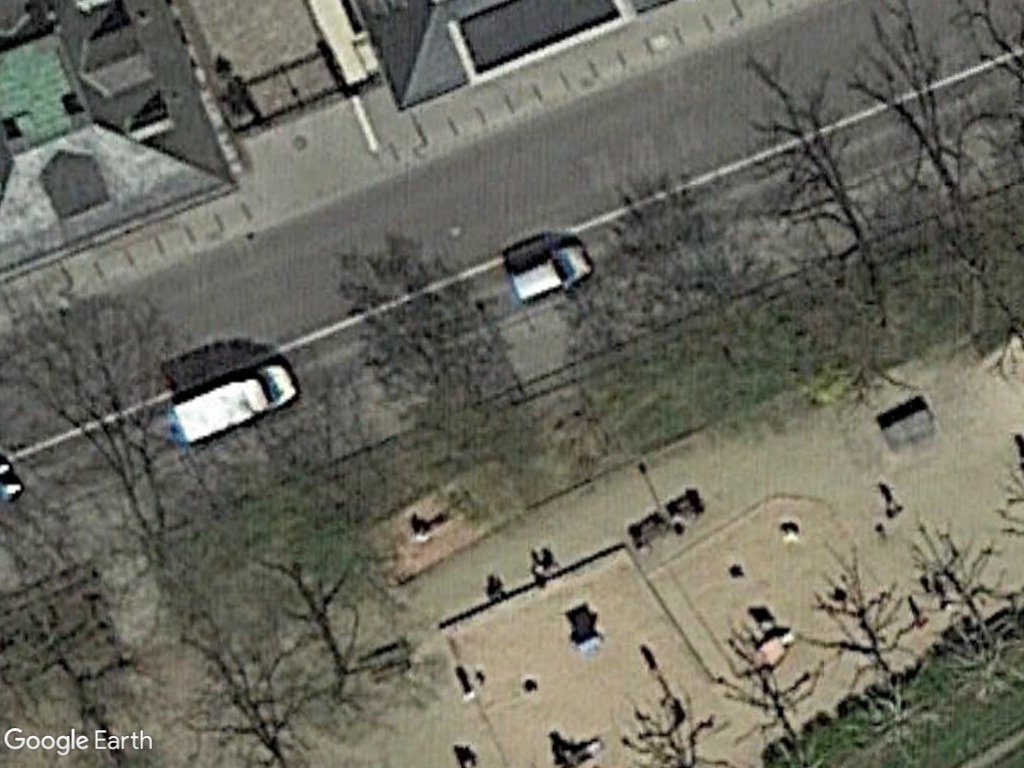car: (505, 238, 594, 310)
van: (165, 354, 305, 449)
